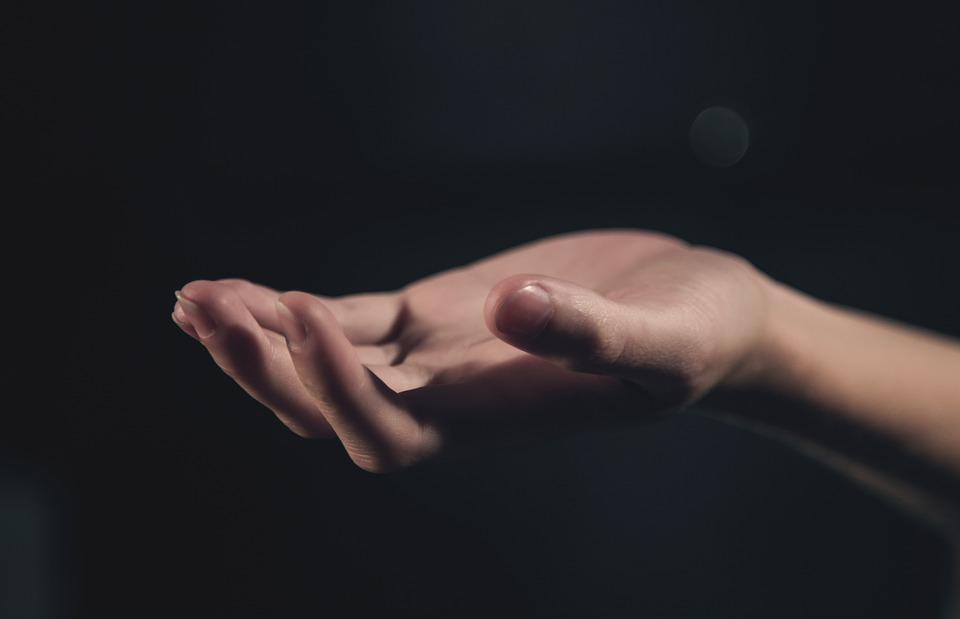hand: (164, 212, 770, 479)
